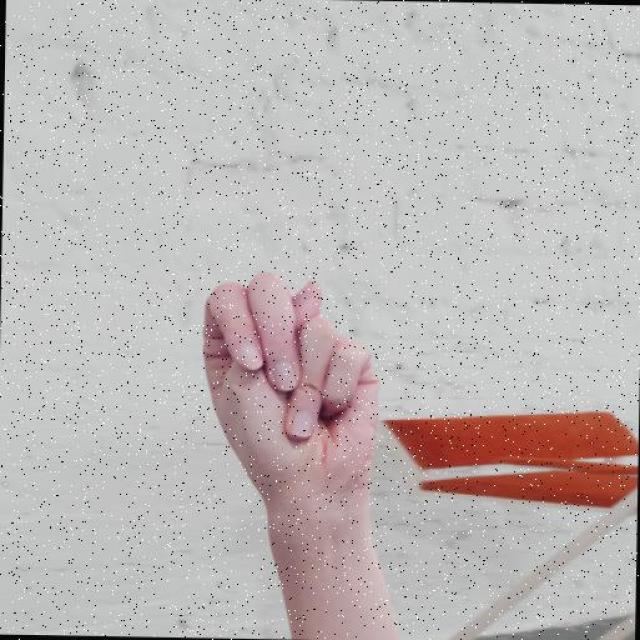N: (187, 269, 384, 527)
